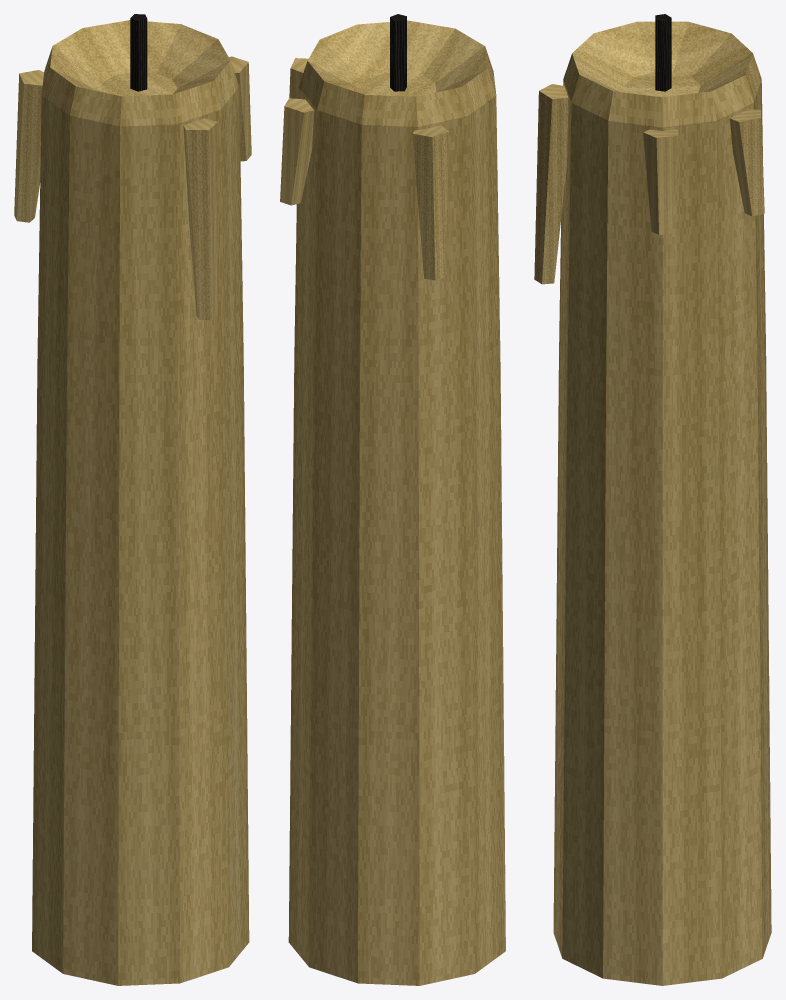
File: blender_firelight_1.glb
3 renders of one model, left to right at view 1: azimuth 30°, elevation 25°; view 2: azimuth 150°, elevation 25°; view 3: azimuth 270°, elevation 25°, orthographic.
Parts seen in each view (by area): view 1: blender_firelight_1; view 2: blender_firelight_1; view 3: blender_firelight_1.
Part boxes in pixels (x1=…): blender_firelight_1: x1=14, y1=14, x2=251, y2=985; blender_firelight_1: x1=280, y1=14, x2=505, y2=985; blender_firelight_1: x1=534, y1=14, x2=771, y2=985.
Size of the model in its own units: 0.0361 by 0.157 by 0.0366.
Materials: 2 (2 with a texture image).
